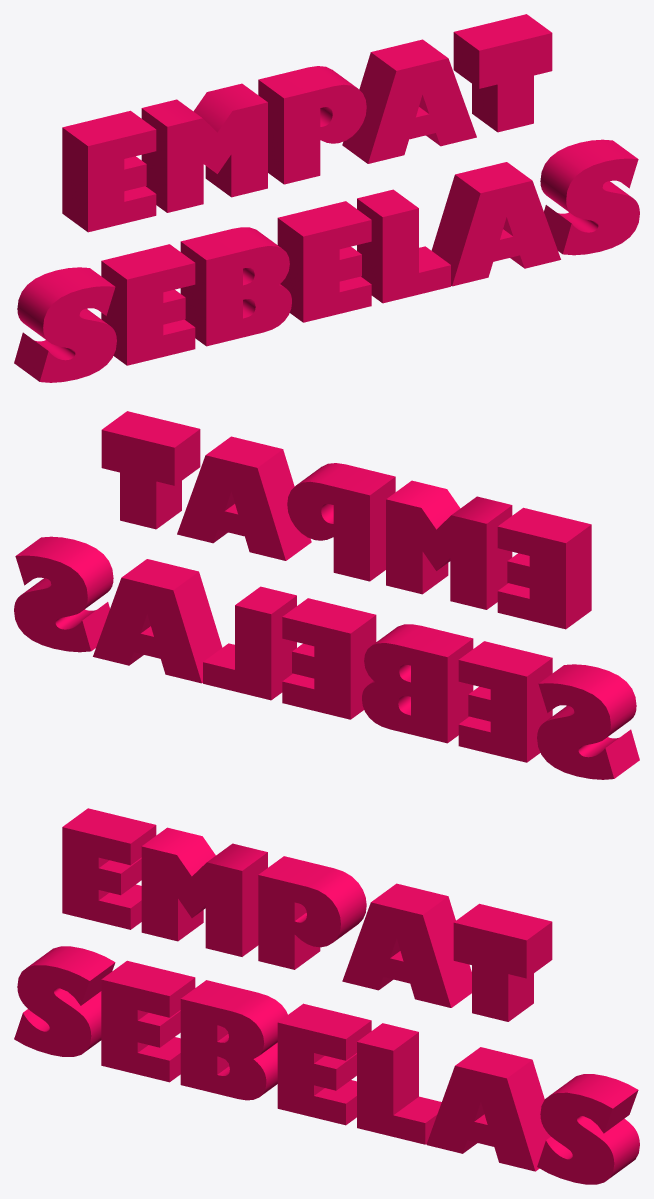
Rendered from EMPAT BELAS.fbx.
3 renders of one model, top to bottom at view 1: azimuth 30°, elevation 25°; view 2: azimuth 150°, elevation 25°; view 3: azimuth 330°, elevation 25°, orthographic.
Parts seen in each view (by area): view 1: node_id116 (×2); view 2: node_id116 (×2); view 3: node_id116 (×2).
Part boxes in pixels (x1,y1,x2,y2): node_id116 (×2): [14, 14, 639, 382]; node_id116 (×2): [14, 411, 639, 779]; node_id116 (×2): [14, 808, 639, 1184].
Size of the model in its own units: 0.2022 by 0.0742 by 0.015.
